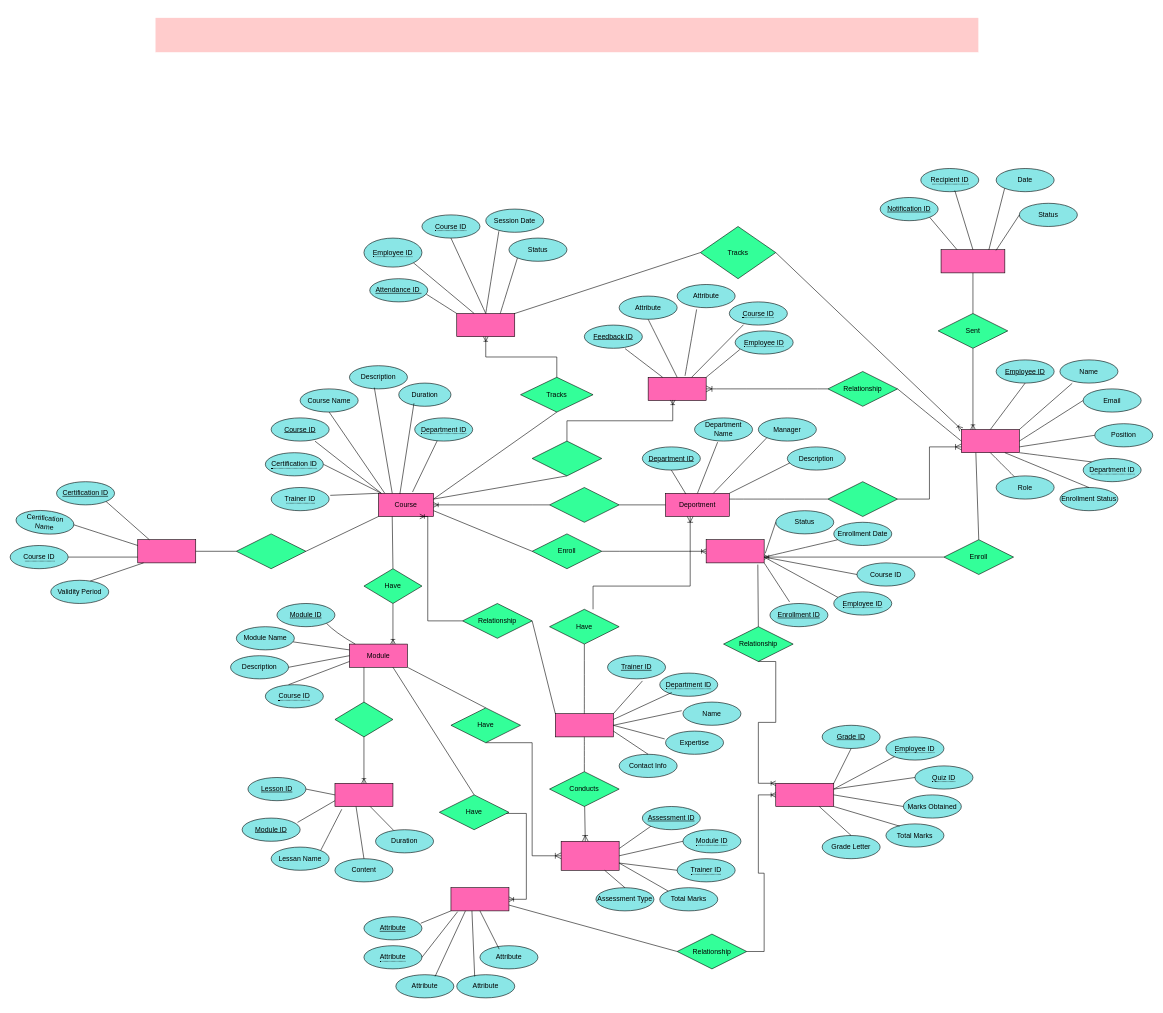
Image size: 1163x1013. Some labels were removed from this diagram. The shapes that lost their labels are listed below. From the top down, each one's centre as x and y in pixels, then its label:
At point (567, 34): "LEARNING MANAGEMENT SYSTEM".
At point (972, 261): "Notification".
At point (485, 325): "Attenda nce".
At point (677, 388): "Feedback".
At point (567, 458): "Provide".
At point (990, 441): "Employee".
At point (584, 504): "Offer".
At point (862, 498): "Belongs".
At point (166, 551): "Certification".
At point (271, 551): "Lead".
At point (735, 551): "Enrollment".
At point (363, 719): "Contains".
At point (584, 725): "Trainer".
At point (363, 794): "Lesson".
At point (804, 794): "Grade".
At point (590, 855): "Assessments".
At point (479, 899): "Quiz".
